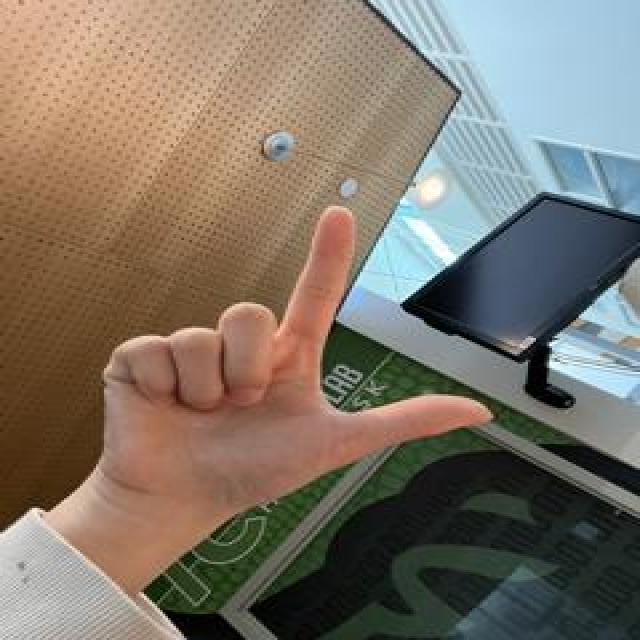L: (49, 145, 602, 593)
